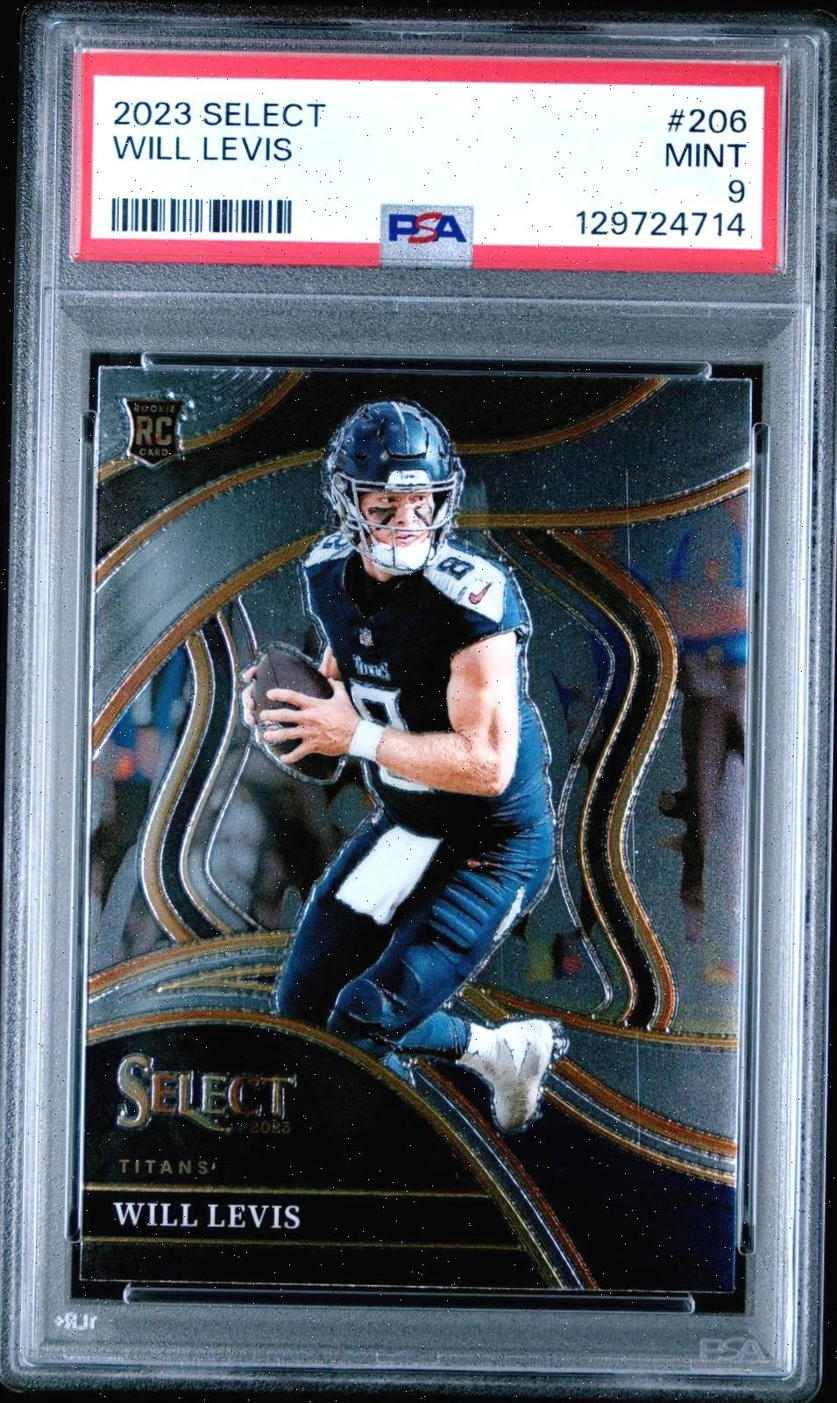card-2UtV: (78, 364, 752, 1294)
